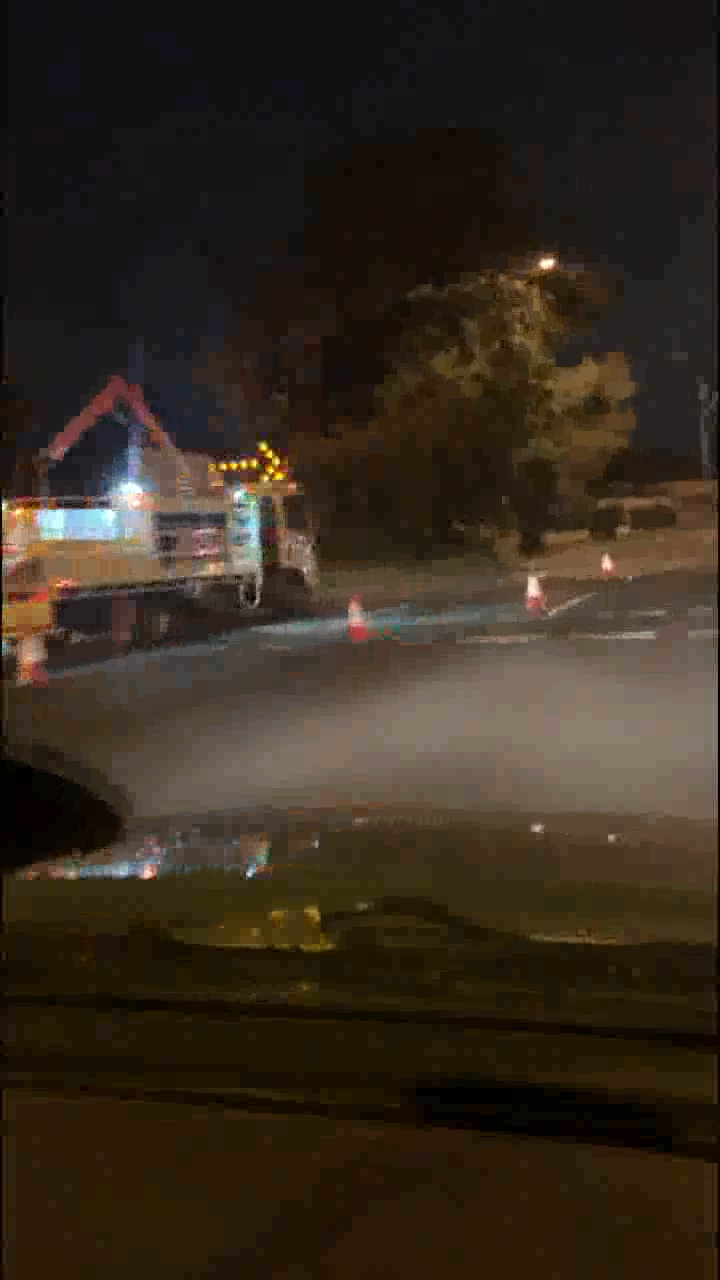road cone: (347, 584, 375, 644), (516, 563, 549, 611)
truck: (4, 461, 333, 661)
